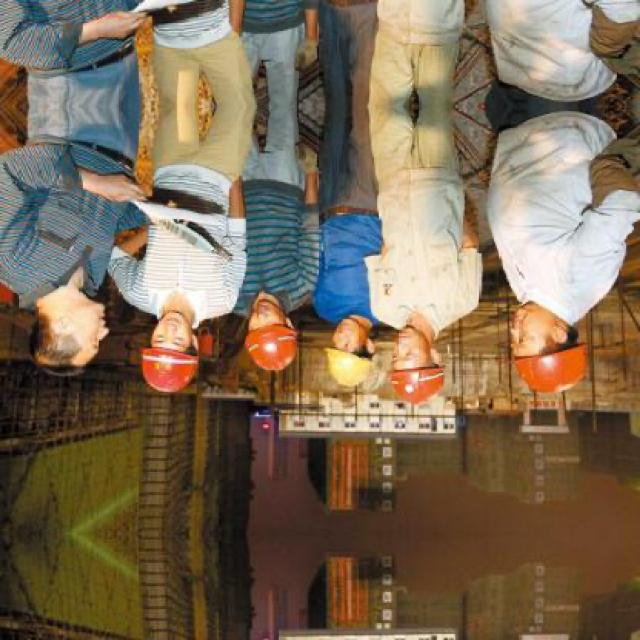con casco: (446, 268, 603, 398), (323, 311, 472, 398), (302, 314, 414, 401), (119, 292, 211, 394), (209, 292, 305, 372)
sin casco: (0, 276, 126, 368)
